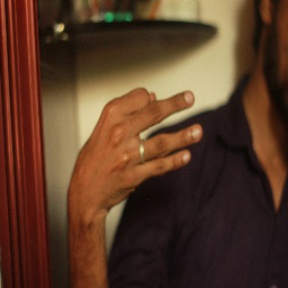K: (71, 86, 204, 195)
